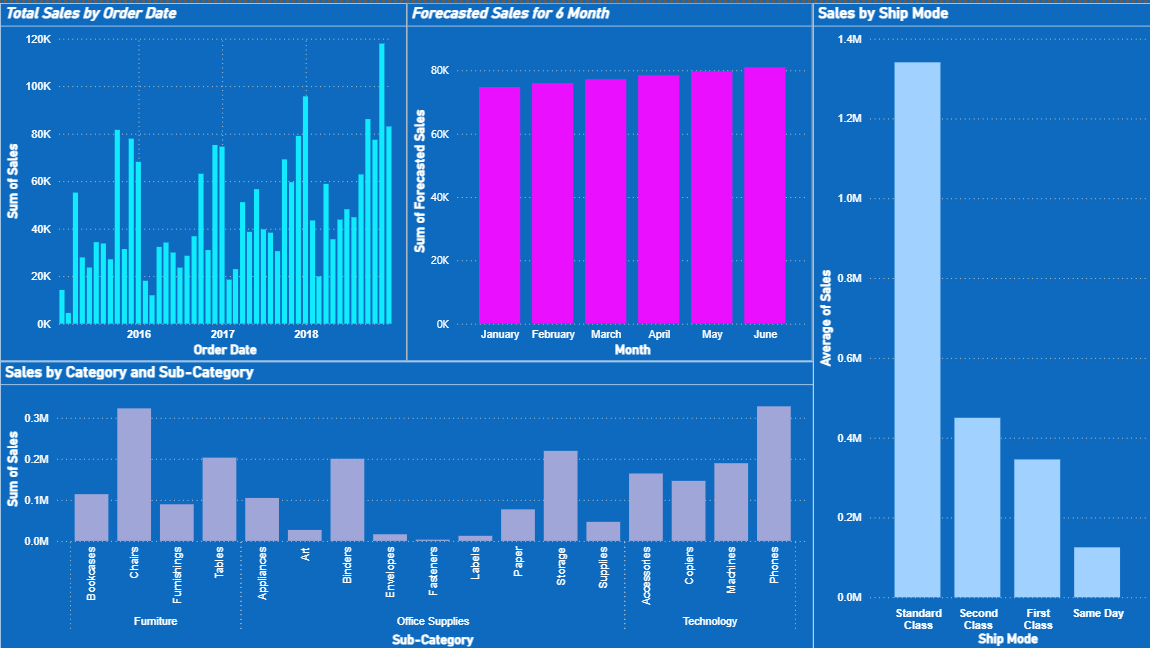

Layout of this report page (visuals, bound fields, positions):
{"tool":"powerbi","page":{"name":"Forecast & Trends","canvas":[1280,720],"ordinal":1},"visuals":[{"type":"lineStackedColumnComboChart","title":"Total Sales by Order Date","fields":{"Category":["monthly_sales.Order Date"],"Y":["Sum(monthly_sales.Sales)"]},"box":[0,0,452,398],"z":1},{"type":"lineStackedColumnComboChart","title":"Forecasted Sales for 6 Month","fields":{"Category":["sales_forecast.Date.Variation.Date Hierarchy.Month","sales_forecast.Date.Variation.Date Hierarchy.Day"],"Y":["Sum(sales_forecast.Forecasted Sales)"]},"box":[452,0,452,398],"z":2},{"type":"clusteredColumnChart","title":"Sales by Ship Mode","fields":{"Y":["Avg(ship_mode_sales.Sales)"],"Category":["ship_mode_sales.Ship Mode"]},"box":[904,0,376,720],"z":3},{"type":"columnChart","title":"Sales by Category and Sub-Category","fields":{"Y":["Sum(cleaned_sales_data.Sales)"],"Category":["cleaned_sales_data.Category","cleaned_sales_data.Sub-Category"]},"box":[0,398,904,322],"z":4}]}

Visuals, with their boxes in screenshot pixels (x1, y1, x2, y2), scaled from the page's 1280x720 canvas onto the 1150x648 screenshot:
"Total Sales by Order Date" lineStackedColumnComboChart: [0, 0, 406, 358]
"Forecasted Sales for 6 Month" lineStackedColumnComboChart: [406, 0, 812, 358]
"Sales by Ship Mode" clusteredColumnChart: [812, 0, 1149, 647]
"Sales by Category and Sub-Category" columnChart: [0, 358, 812, 647]
